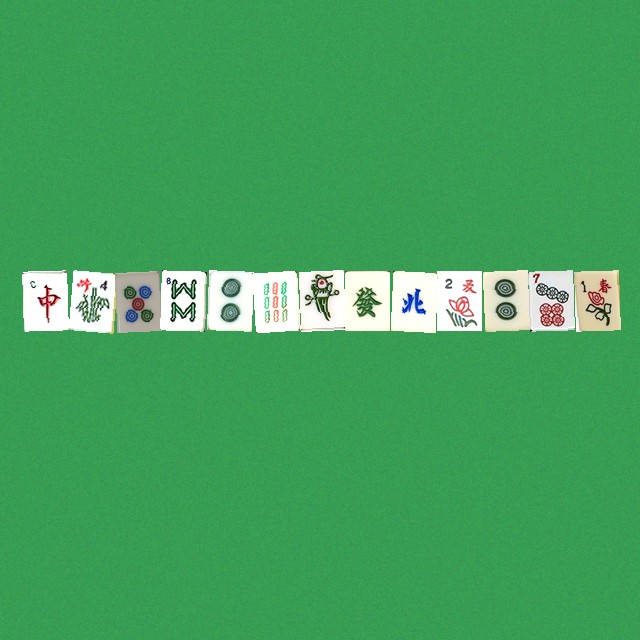tile: (22, 270, 67, 330), (68, 270, 113, 330), (114, 270, 159, 330), (160, 270, 205, 330), (206, 270, 251, 330), (252, 270, 297, 330), (298, 270, 343, 330), (344, 270, 389, 330), (390, 270, 435, 330), (436, 270, 481, 330), (482, 270, 527, 330), (528, 270, 573, 330), (574, 270, 619, 330)
